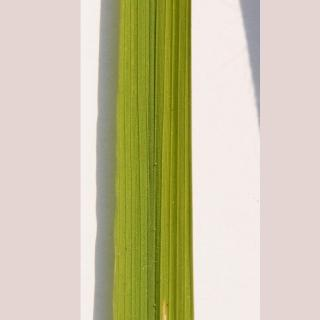Hawar-Daun: (142, 293, 180, 320)
